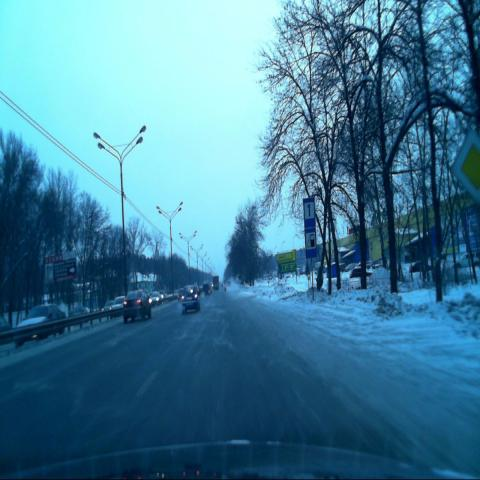7_3: (304, 227, 316, 259)
7_4: (303, 196, 315, 226)
